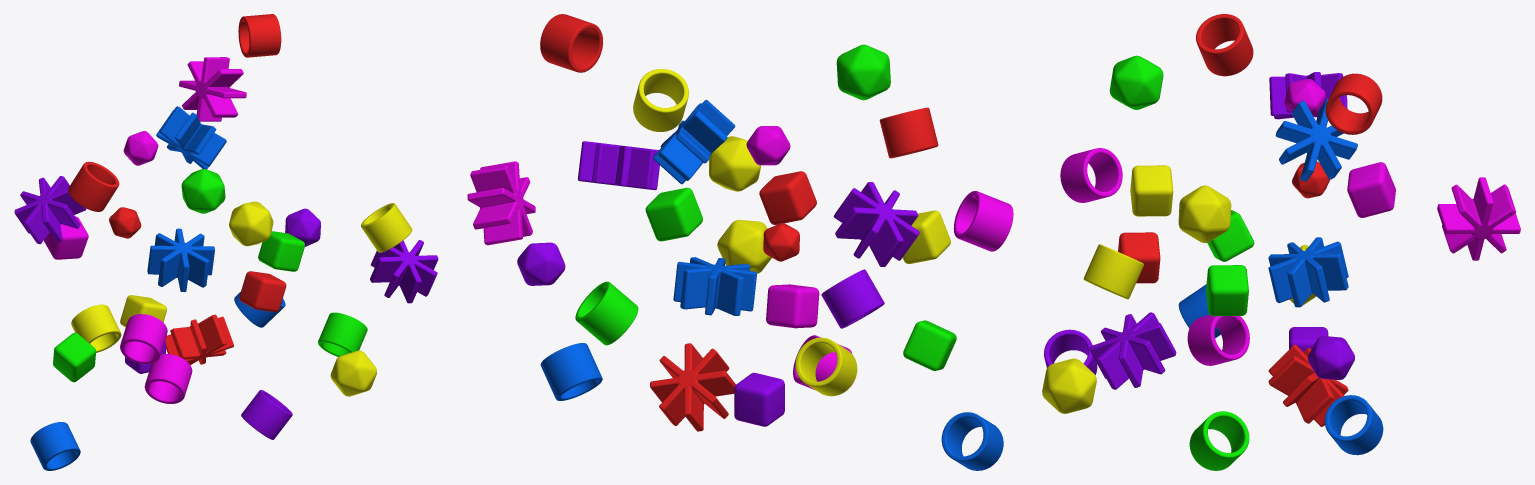
Rendered from shapes.glb.
The picture shows the model from 3 angles, left to right: view 1: azimuth 30°, elevation 25°; view 2: azimuth 150°, elevation 25°; view 3: azimuth 270°, elevation 25°; orthographic projection. The views are drawn at different scales.
Parts seen in each view (by area): view 1: Cylinder.014, Cylinder.001, Cylinder.008, Cylinder.002, Cylinder.003, Cylinder.007, Cylinder.012, Cylinder.011, Cylinder.013, Cylinder.006, Cylinder.015, Cylinder.005 (+15 smaller); view 2: Cylinder.007, Cylinder.008, Cylinder.014, Cylinder.001, Cylinder.003, Cylinder.002, Cylinder.015, Cylinder.012, Cylinder.004, Cylinder.005, Cylinder.009, Icosphere.003 (+16 smaller); view 3: Cylinder.014, Cylinder.002, Cylinder.001, Cylinder.003, Cylinder.007, Cylinder.006, Cylinder.012, Cylinder.011, Icosphere.002, Icosphere.001, Cylinder.015, Cylinder.004 (+15 smaller).
Part boxes in pixels (x1,y1,x2,y2): Cylinder.014: (179, 57, 246, 121); Cylinder.001: (147, 228, 214, 292); Cylinder.008: (14, 176, 86, 244); Cylinder.002: (370, 240, 438, 303); Cylinder.003: (156, 106, 226, 169); Cylinder.007: (165, 314, 233, 364); Cylinder.012: (120, 314, 167, 364); Cylinder.011: (144, 354, 192, 403); Cylinder.013: (30, 422, 80, 470); Cylinder.006: (68, 161, 119, 211); Cylinder.015: (238, 14, 281, 57); Cylinder.005: (361, 203, 412, 252); Cylinder.007: (650, 343, 735, 431); Cylinder.008: (833, 182, 919, 266); Cylinder.014: (467, 161, 535, 245); Cylinder.001: (673, 257, 756, 315); Cylinder.003: (653, 100, 735, 184); Cylinder.002: (578, 141, 659, 190); Cylinder.015: (540, 14, 603, 72); Cylinder.012: (953, 191, 1013, 251); Cylinder.004: (575, 281, 638, 345); Cylinder.005: (633, 69, 688, 131); Cylinder.009: (540, 343, 602, 400); Icosphere.003: (836, 44, 890, 100); Cylinder.014: (1437, 177, 1520, 260); Cylinder.002: (1089, 312, 1176, 389); Cylinder.001: (1268, 237, 1348, 307); Cylinder.003: (1275, 99, 1357, 181); Cylinder.007: (1268, 344, 1348, 426); Cylinder.006: (1196, 14, 1253, 76); Cylinder.012: (1060, 148, 1122, 202); Cylinder.011: (1187, 315, 1249, 365); Icosphere.002: (1042, 358, 1096, 413); Icosphere.001: (1178, 185, 1231, 243); Cylinder.015: (1325, 73, 1382, 134); Cylinder.004: (1189, 411, 1249, 470).
Bounding box in the file's own units: 25.8 × 23.32 × 24.34.
